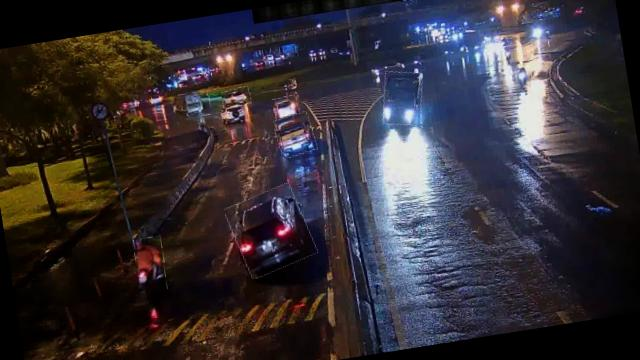Bike: (132, 234, 168, 292), (516, 66, 534, 91)
Car: (226, 183, 316, 277), (274, 112, 318, 158), (272, 94, 300, 120), (220, 86, 252, 108), (219, 100, 248, 124)
Truck: (377, 67, 427, 128), (178, 90, 212, 119)
